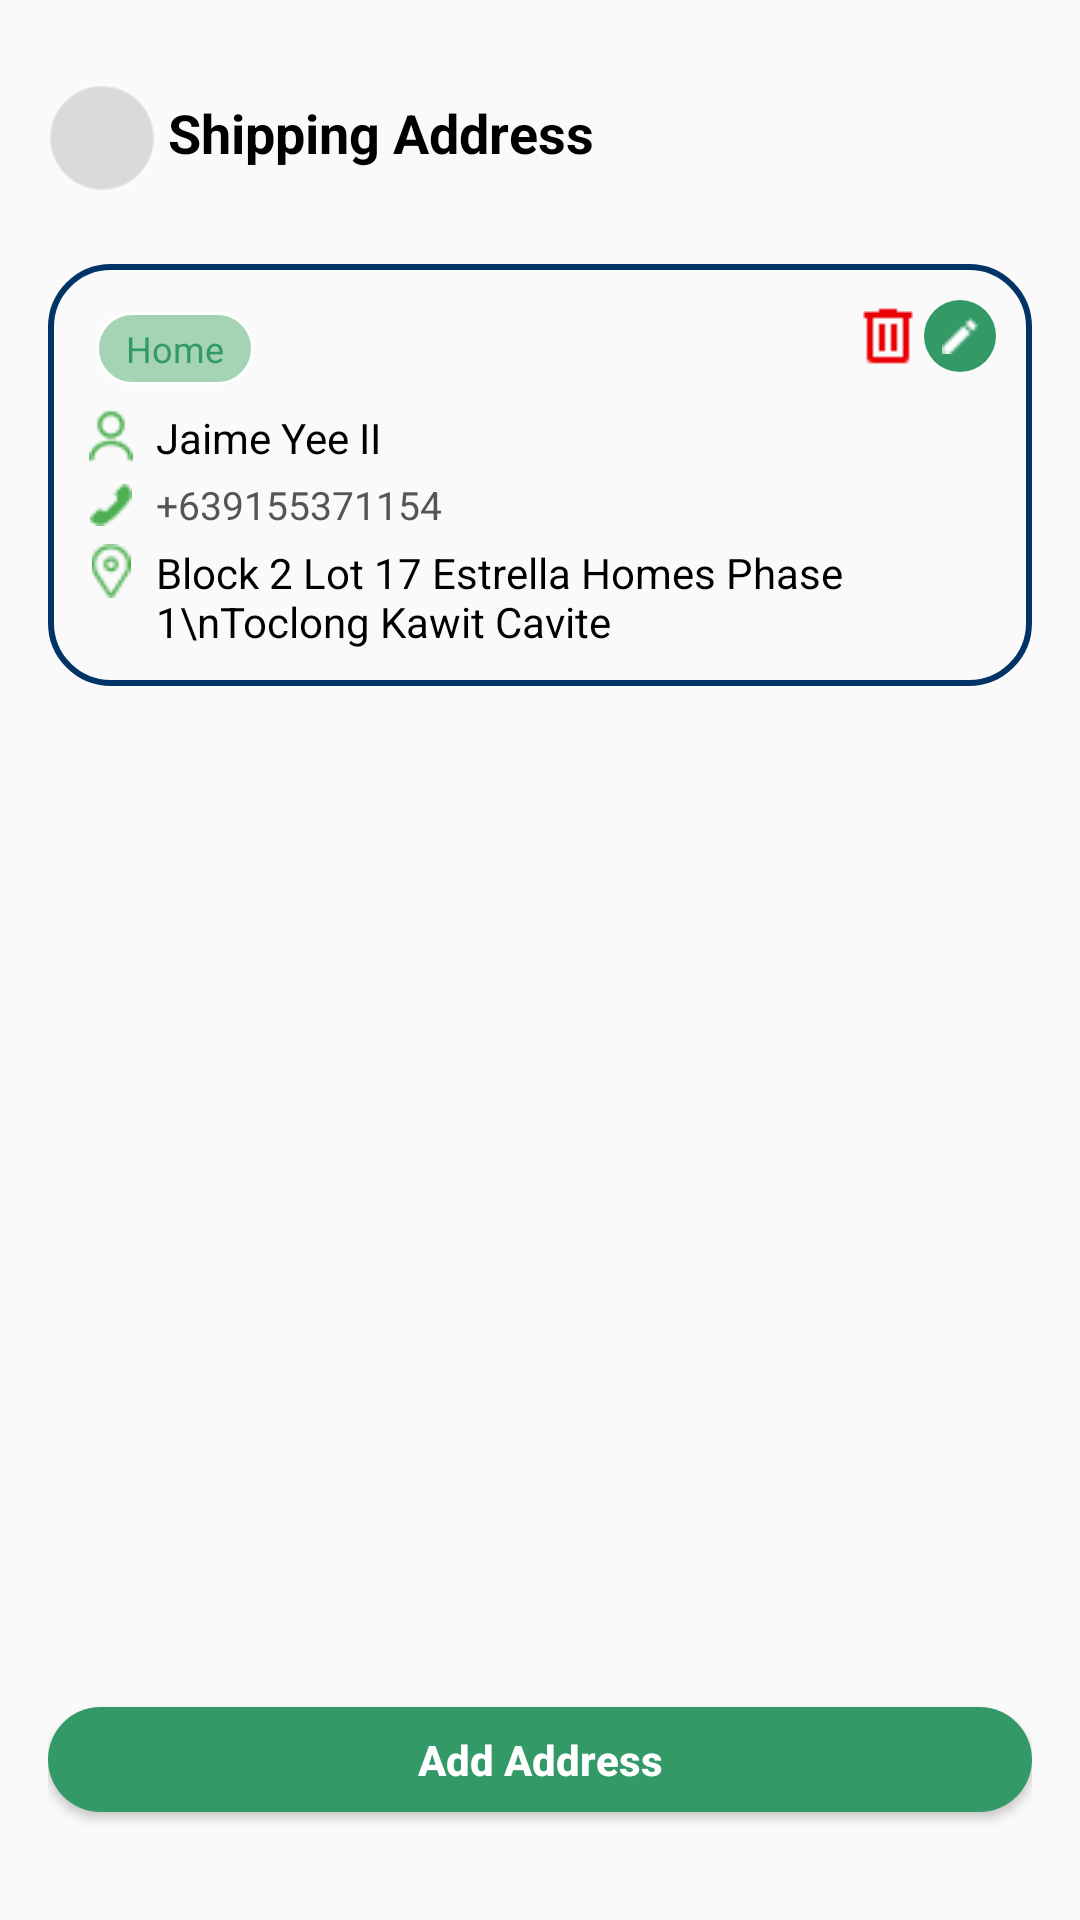

Icons on this 1080x1920 Android screen, each with its box as Rect(x1, y1, x2, y2):
loc: Rect(92, 544, 131, 598)
phone: Rect(90, 484, 132, 526)
user: Rect(89, 411, 133, 461)
